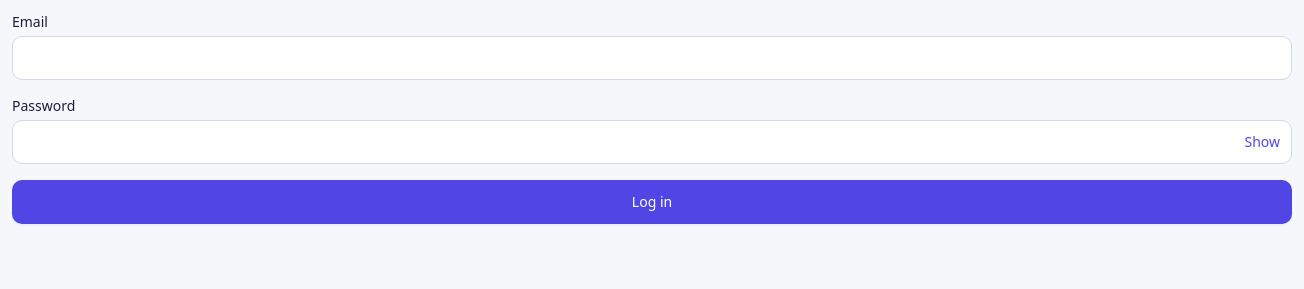
Scenario: LoginForm › shows both errors and does not submit an empty form
Click the button "Log in": click(652, 202) [12,180,1292,224]
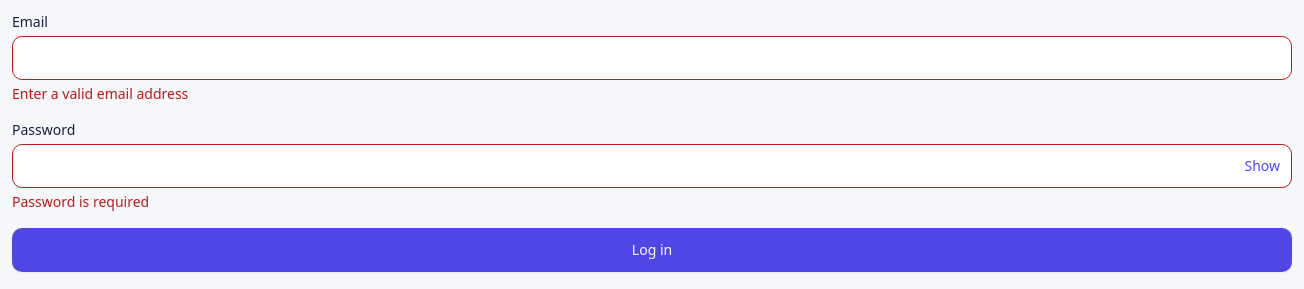
Check: the text "Enter a valid email address" is shown, box [12,84,188,103]
Check: the text "Password is required" is shown, box [12,192,149,211]
